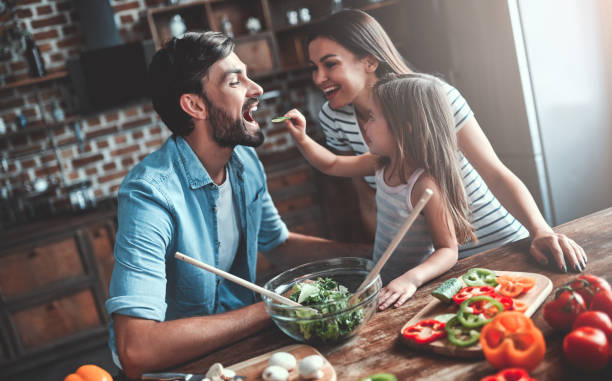without mask: (157, 38, 271, 151), (305, 28, 376, 109), (355, 81, 407, 161)
